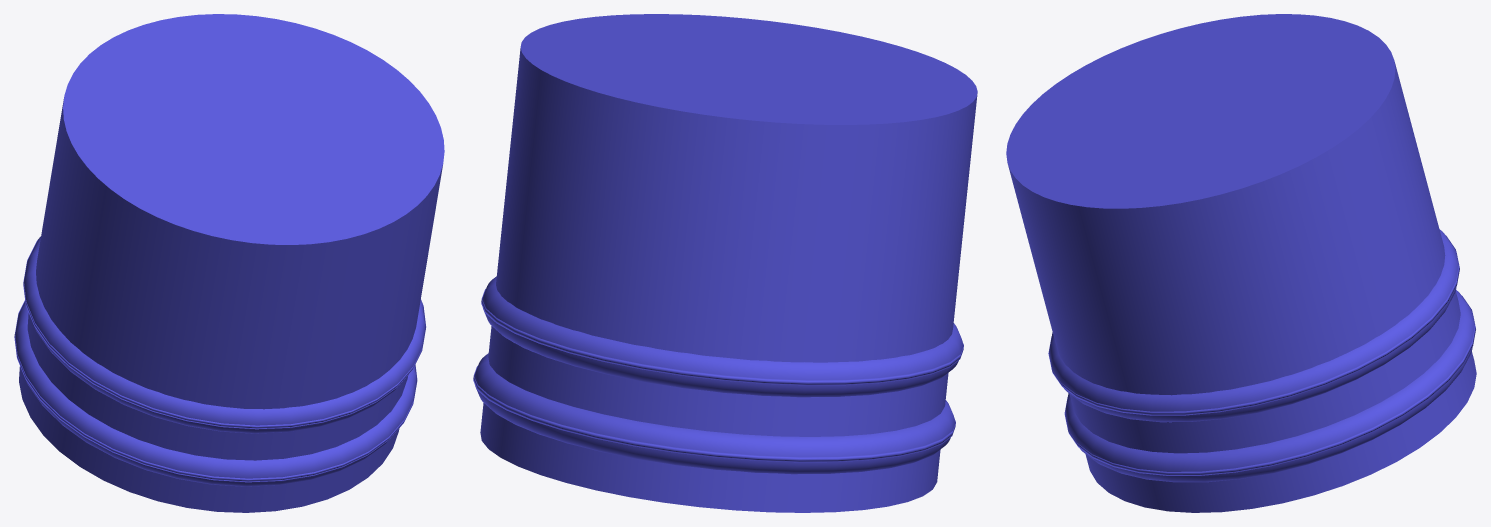
File: bombilla229.obj
3 renders of one model, left to right at view 1: azimuth 30°, elevation 25°; view 2: azimuth 150°, elevation 25°; view 3: azimuth 270°, elevation 25°, orthographic. The views are drawn at different scales.
Parts seen in each view (by area): view 1: Cylinder001, Cylinder004, Cylinder002, Cylinder003, Cylinder006; view 2: Cylinder001, Cylinder003, Cylinder004, Cylinder006, Cylinder002; view 3: Cylinder001, Cylinder004, Cylinder003, Cylinder002, Cylinder006.
Boxes of the visible parts, x1,y1,x2,y2 form: Cylinder001: (36, 14, 444, 409); Cylinder004: (14, 300, 417, 486); Cylinder002: (23, 236, 426, 433); Cylinder003: (27, 313, 407, 460); Cylinder006: (19, 366, 399, 512); Cylinder001: (496, 14, 977, 362); Cylinder003: (488, 326, 948, 436); Cylinder004: (473, 353, 955, 474); Cylinder006: (480, 403, 940, 512); Cylinder002: (481, 276, 963, 397); Cylinder001: (1006, 14, 1445, 395); Cylinder004: (1064, 290, 1475, 482); Cylinder003: (1069, 291, 1460, 453); Cylinder002: (1048, 229, 1459, 422); Cylinder006: (1085, 352, 1476, 512).
Size of the model in its own units: 72.45 by 73.9 by 80.47.
